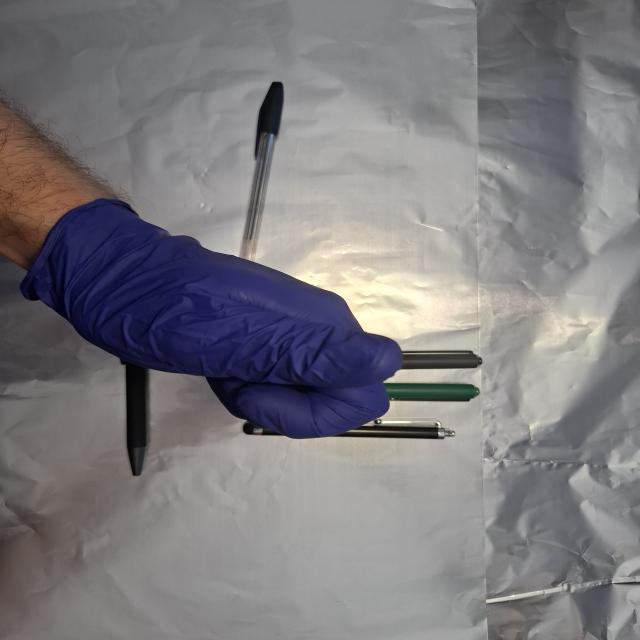glove_on: (21, 196, 408, 441)
